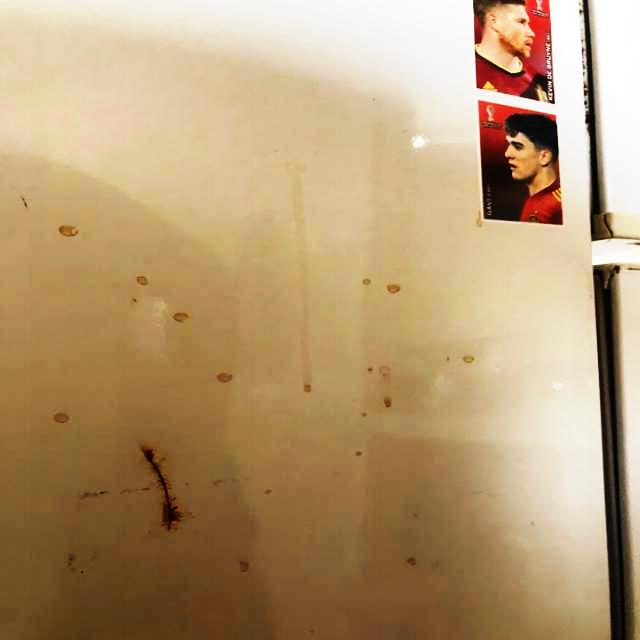Corrosion: (143, 447, 179, 533)
